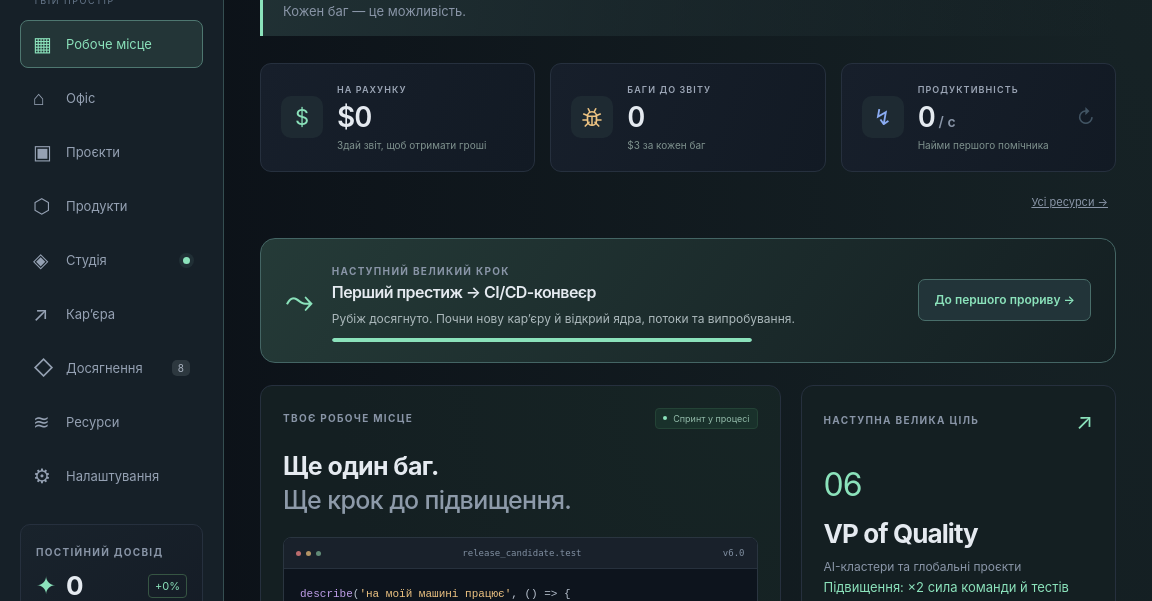
studio UI › retains research, insights, recruits and certificates after confirmed prestige
Click the button "↗ Кар’єра" at (112, 314), box [20, 290, 203, 338]
(page scrolled)
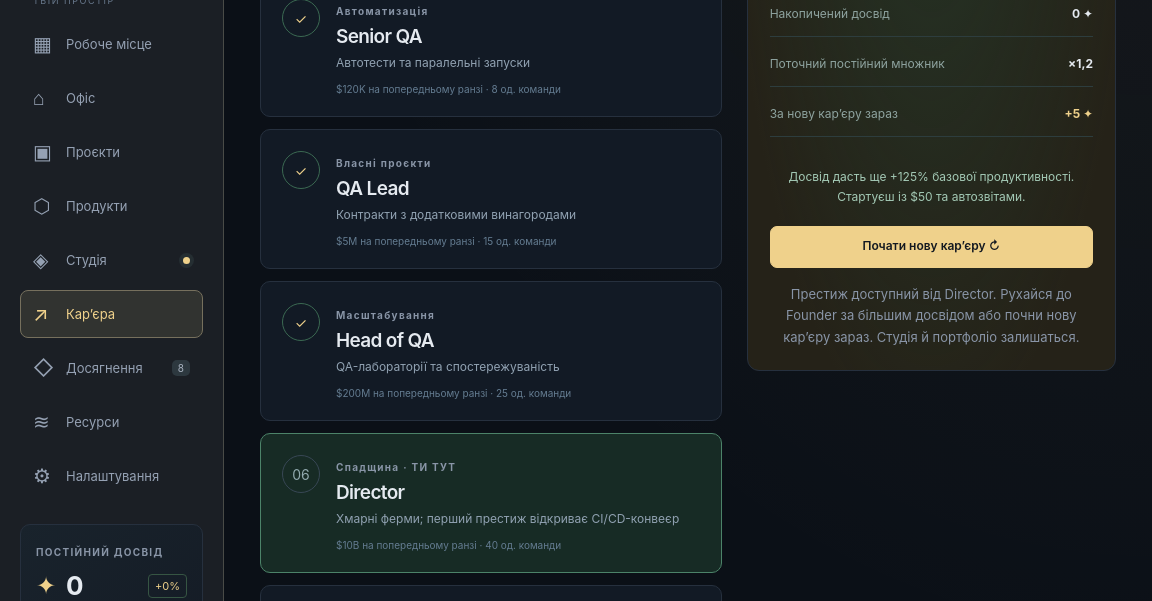
Click the button "Почати нову кар’єру ↻" at (931, 247), box [770, 226, 1093, 268]
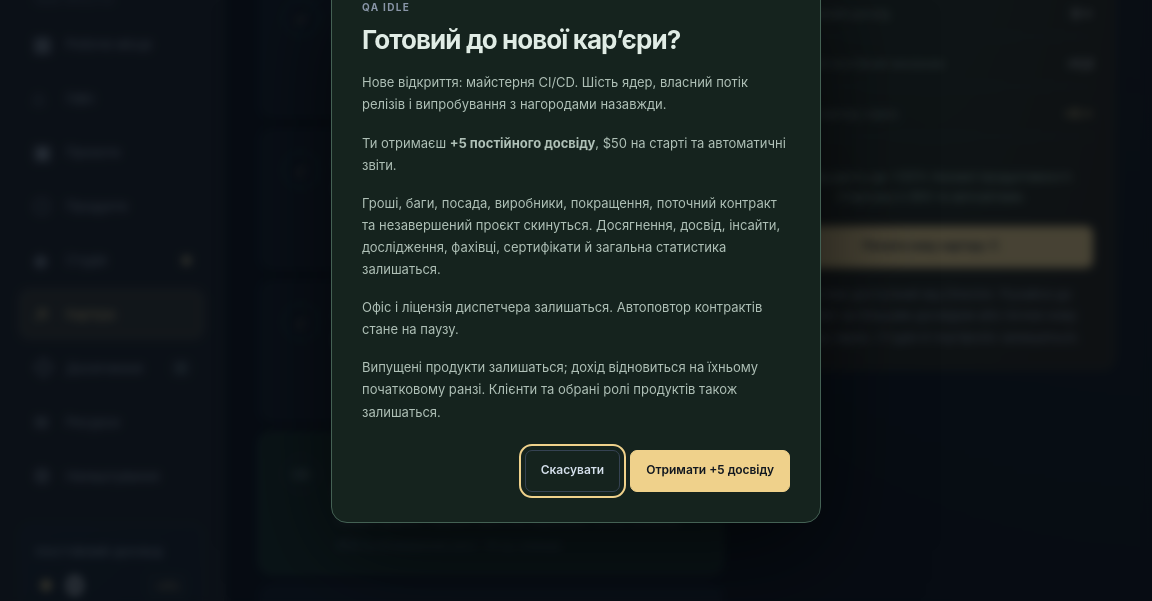
Result: the dialog shows "дослідження, фахівці, сертифікати" at [362, 195, 780, 277]
Click the button "Отримати +5 досвіду" at (710, 471), box [630, 450, 790, 492]
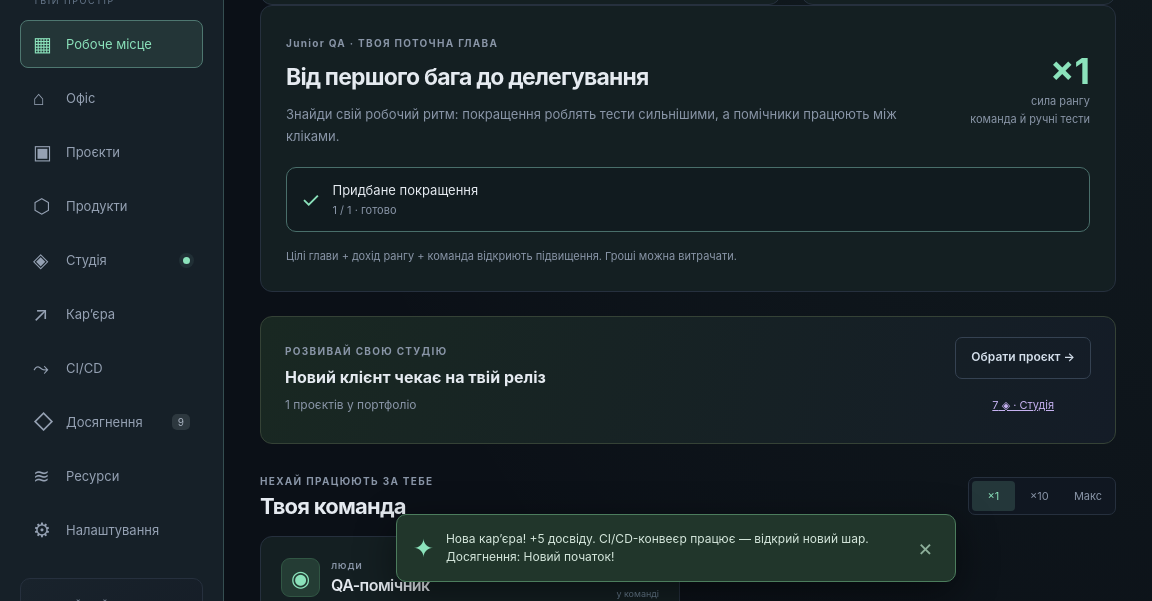
Click the button "◈ Студія" at (112, 260), box [20, 236, 203, 284]
(page scrolled)
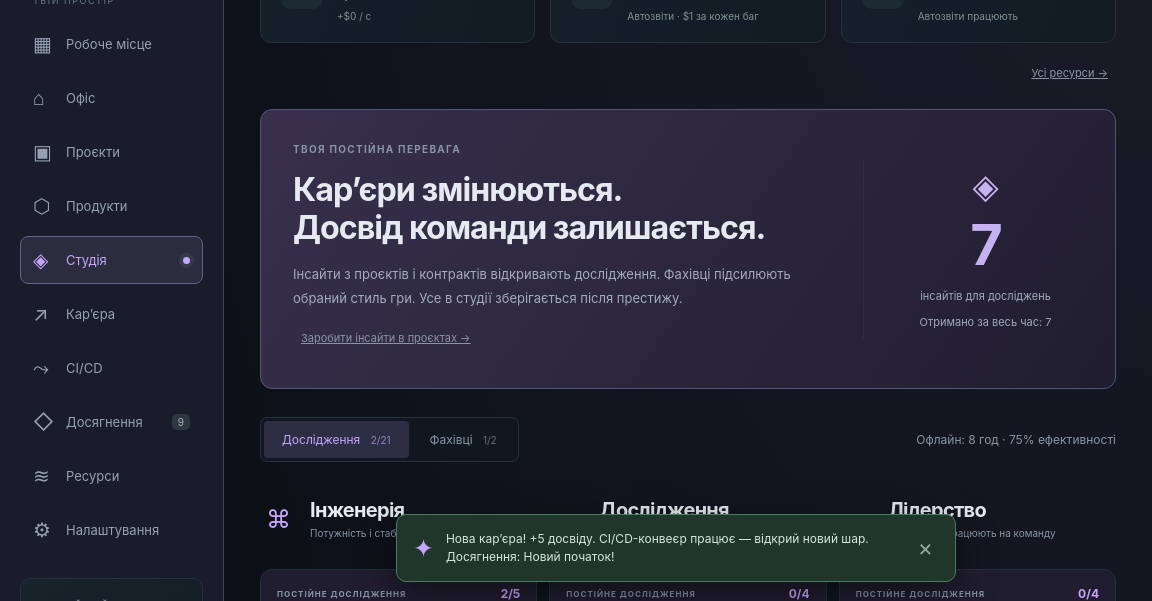
Result: the text with test id "insights" reads "7" at [970, 211, 1001, 279]
